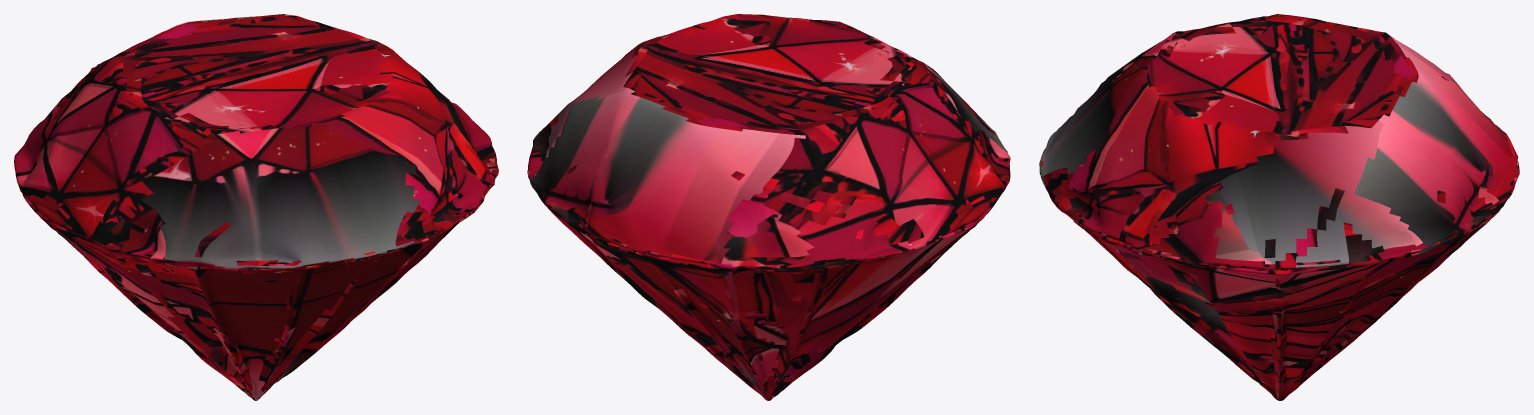
File: blue diamond.fbx
3 renders of one model, left to right at view 1: azimuth 30°, elevation 25°; view 2: azimuth 150°, elevation 25°; view 3: azimuth 270°, elevation 25°, orthographic.
Parts seen in each view (by area): view 1: tripo_node_6d46f4bd; view 2: tripo_node_6d46f4bd; view 3: tripo_node_6d46f4bd.
Boxes of the visible parts, x1=… form: tripo_node_6d46f4bd: x1=14, y1=14, x2=498, y2=400; tripo_node_6d46f4bd: x1=527, y1=14, x2=1010, y2=400; tripo_node_6d46f4bd: x1=1039, y1=14, x2=1519, y2=400.
Bounding box in the file's own units: 0.9946 × 0.7434 × 0.9914.
